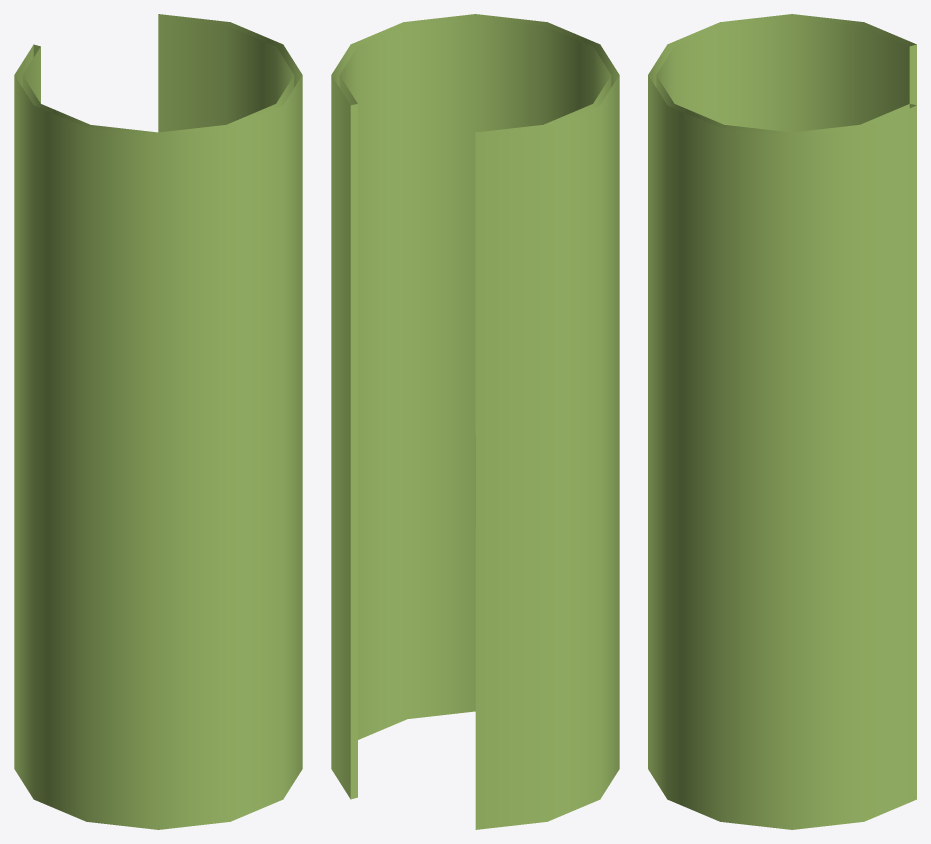
The model's file is Tubo.fbx.
3 renders of one model, left to right at view 1: azimuth 30°, elevation 25°; view 2: azimuth 150°, elevation 25°; view 3: azimuth 270°, elevation 25°, orthographic.
Parts seen in each view (by area): view 1: Capsule; view 2: Capsule; view 3: Capsule.
Boxes of the visible parts, left/top/right/bottom form: Capsule: left=14, top=14, right=302, bottom=829; Capsule: left=331, top=14, right=619, bottom=829; Capsule: left=648, top=14, right=916, bottom=829.
Size of the model in its own units: 229 by 609 by 214.
